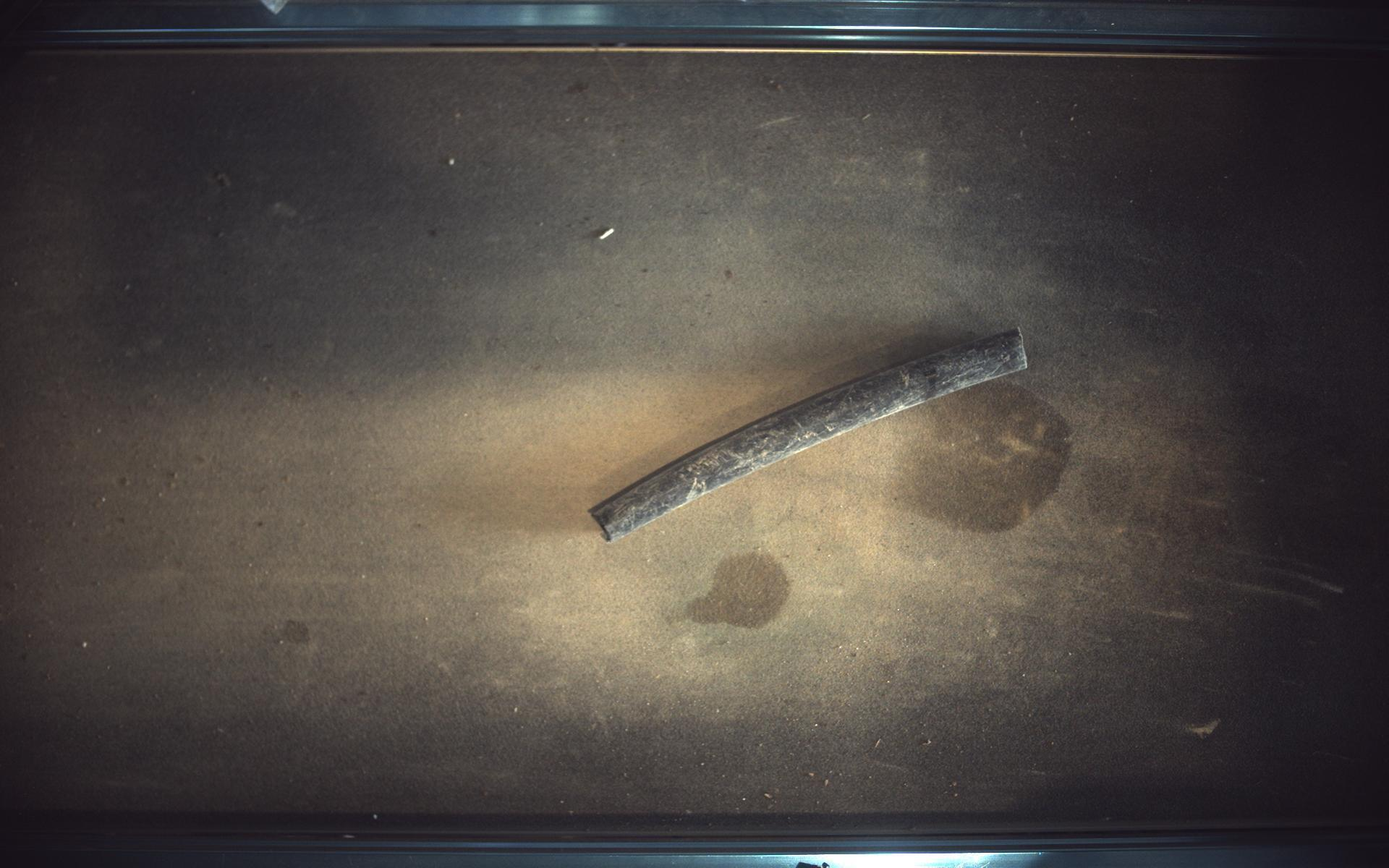pipes: (590, 328, 1029, 542)
